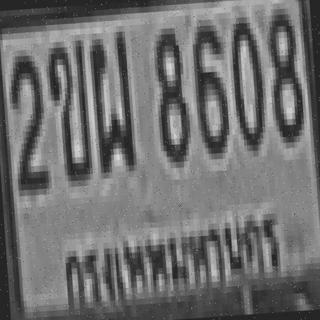A02: (44, 34, 90, 182)
A28: (86, 28, 134, 170)
N00: (226, 10, 264, 146)
N02: (6, 49, 46, 190)
N06: (188, 13, 228, 154)
N08: (152, 21, 189, 163), (265, 2, 302, 138)
P04: (54, 202, 288, 320)
